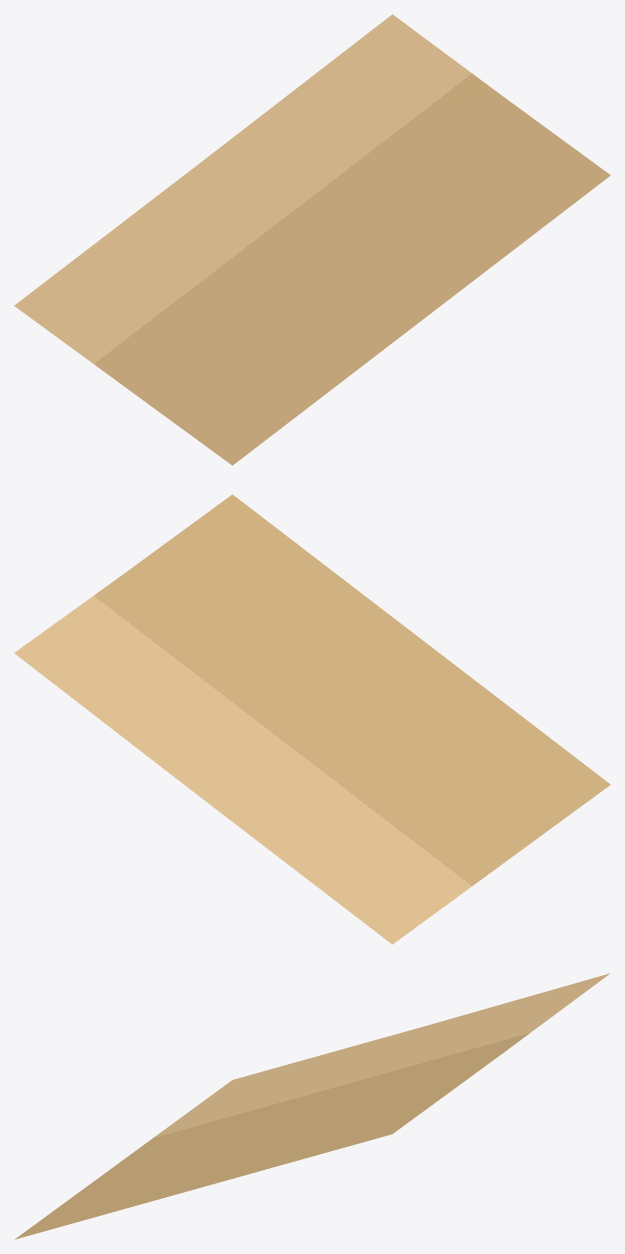
The picture shows the model from 3 angles, top to bottom: view 1: azimuth 30°, elevation 25°; view 2: azimuth 150°, elevation 25°; view 3: azimuth 330°, elevation 25°; orthographic projection.
Bounding box in the file's own units: 1 × 0.503 × 1.
1 material, 1 textured.
